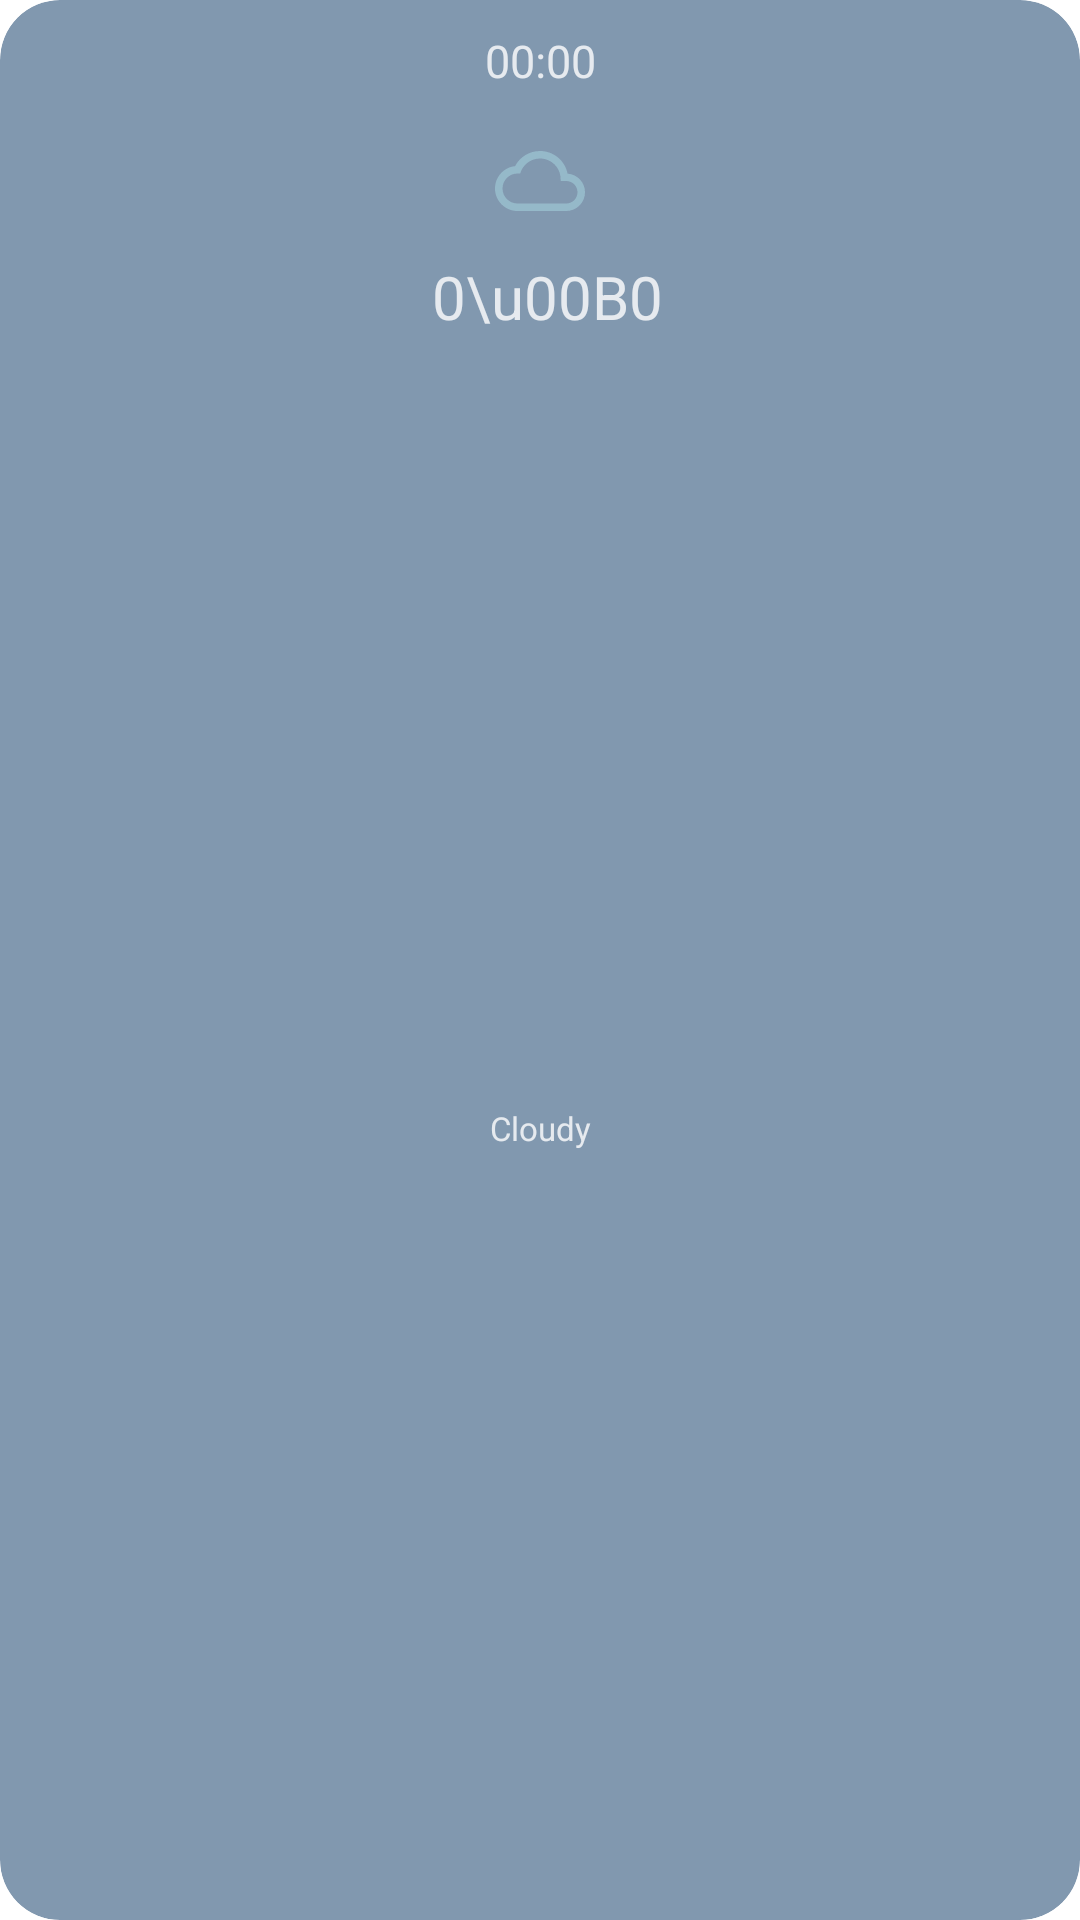

Named icons in this screenshot (1080 x 1920) and their centers, (x,y):
weather: (540,181)
